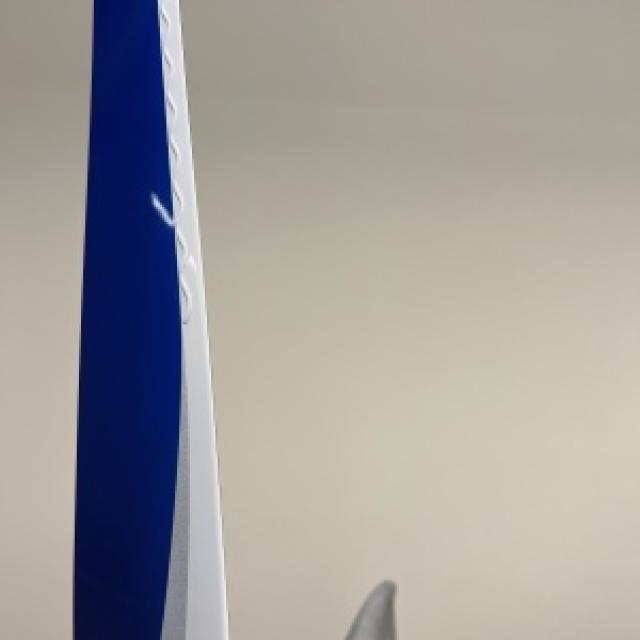healthy: (75, 0, 224, 638)
